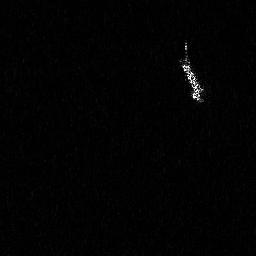ship: (178, 41, 205, 105)
